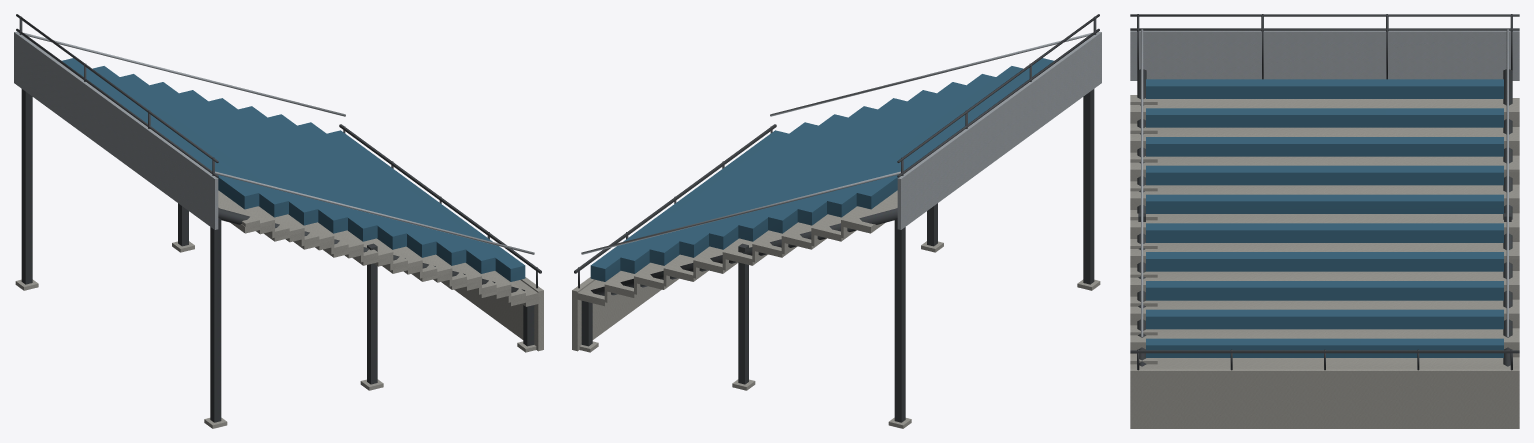
File: grandstand_far.glb
3 renders of one model, left to right at view 1: azimuth 30°, elevation 25°; view 2: azimuth 150°, elevation 25°; view 3: azimuth 270°, elevation 25°, orthographic. The views are drawn at different scales.
Parts seen in each view (by area): view 1: seat, galvanised, dark-steel, concrete; view 2: seat, galvanised, dark-steel, concrete; view 3: seat, concrete, galvanised, dark-steel.
Boxes of the visible parts, left/top/right/bottom form: seat: left=62, top=58, right=525, bottom=281; galvanised: left=14, top=31, right=534, bottom=254; dark-steel: left=16, top=14, right=541, bottom=422; concrete: left=15, top=190, right=543, bottom=428; seat: left=590, top=58, right=1053, bottom=281; galvanised: left=581, top=31, right=1101, bottom=254; dark-steel: left=574, top=14, right=1099, bottom=422; concrete: left=572, top=190, right=1100, bottom=428; seat: left=1146, top=79, right=1503, bottom=357; concrete: left=1130, top=95, right=1519, bottom=428; galvanised: left=1130, top=29, right=1519, bottom=337; dark-steel: left=1130, top=14, right=1519, bottom=370.
Bounding box in the file's own units: 9.47 × 7.38 × 10.
Materials: 4 (3 with a texture image).
